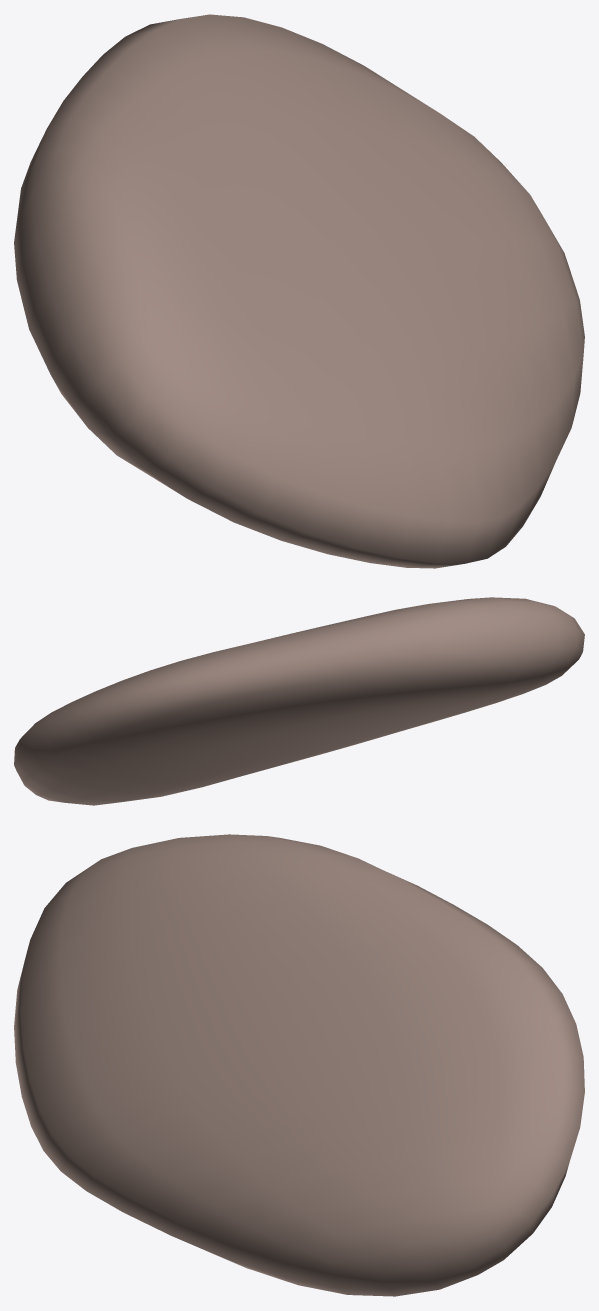
File: Piedra2B.fbx
3 renders of one model, top to bottom at view 1: azimuth 30°, elevation 25°; view 2: azimuth 150°, elevation 25°; view 3: azimuth 270°, elevation 25°, orthographic. The views are drawn at different scales.
Parts seen in each view (by area): view 1: Circle.009; view 2: Circle.009; view 3: Circle.009.
Boxes of the visible parts, x1=… form: Circle.009: x1=14, y1=14, x2=584, y2=568; Circle.009: x1=14, y1=597, x2=584, y2=805; Circle.009: x1=14, y1=834, x2=584, y2=1296.
Size of the model in its own units: 651 by 358 by 646.
